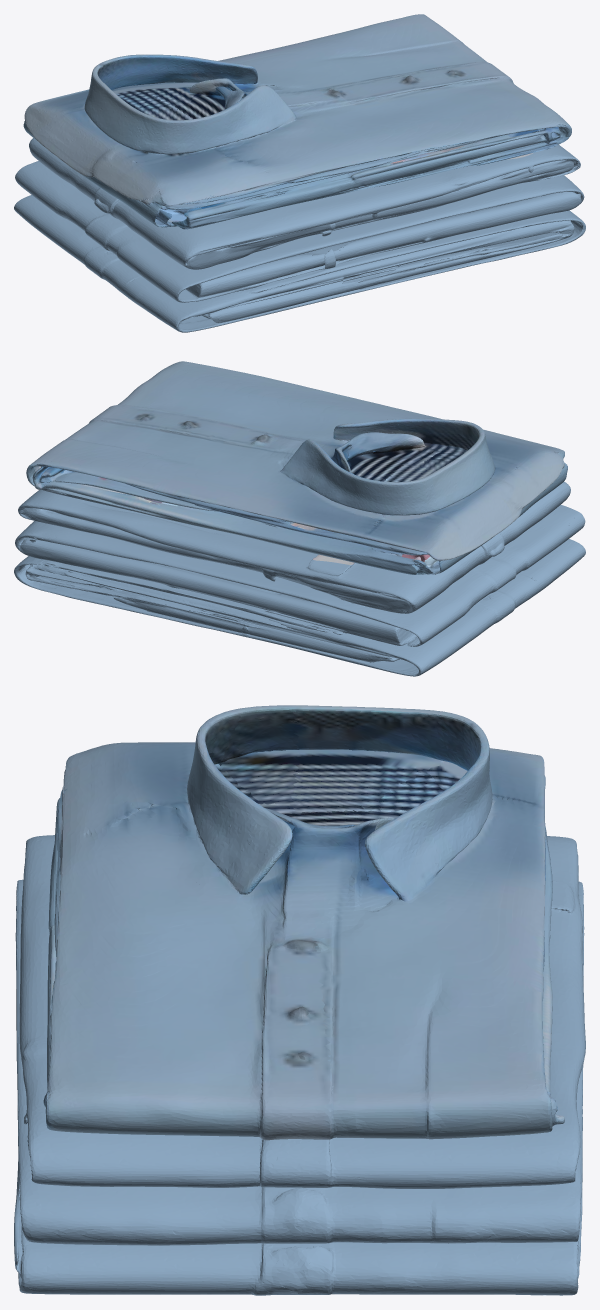
File: camisas-dobradas.glb
3 views of the same model, one above another, from view 1: azimuth 30°, elevation 25°; view 2: azimuth 150°, elevation 25°; view 3: azimuth 270°, elevation 25° (orthographic). The views are drawn at different scales.
Size of the model in its own units: 1 by 0.3727 by 0.6738.
Materials: 2 (1 with a texture image).
